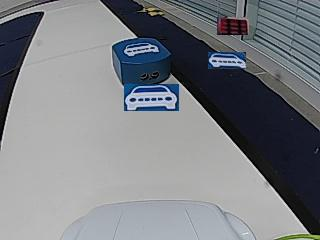safety: (124, 42, 159, 56)
